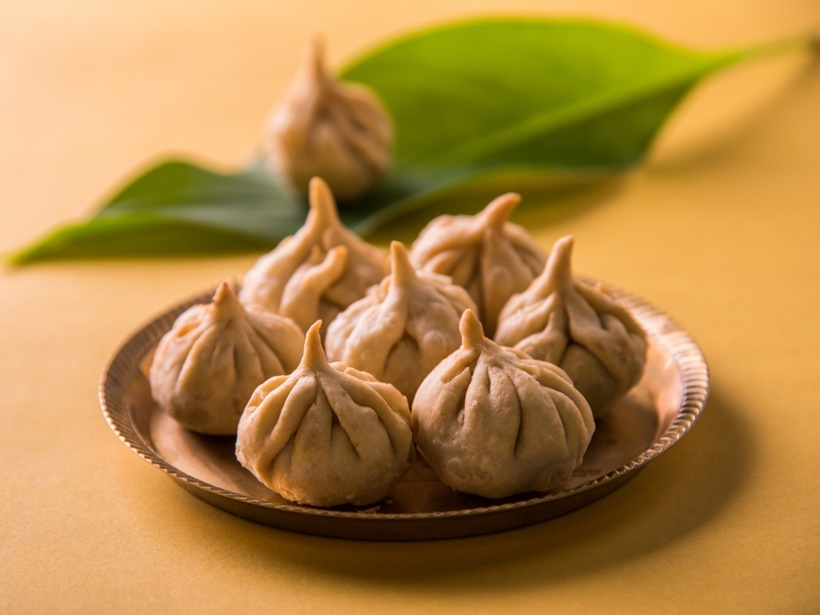modak: (418, 304, 609, 506), (226, 342, 422, 497), (505, 251, 671, 409), (176, 273, 326, 430), (338, 250, 497, 387)
